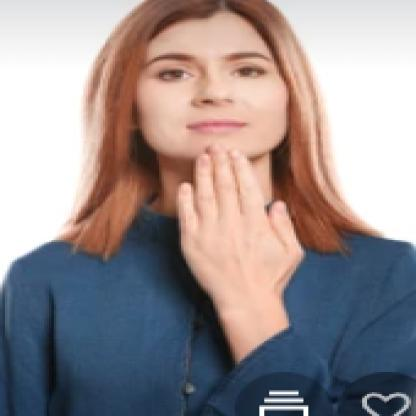thankyou: (173, 130, 310, 310)
